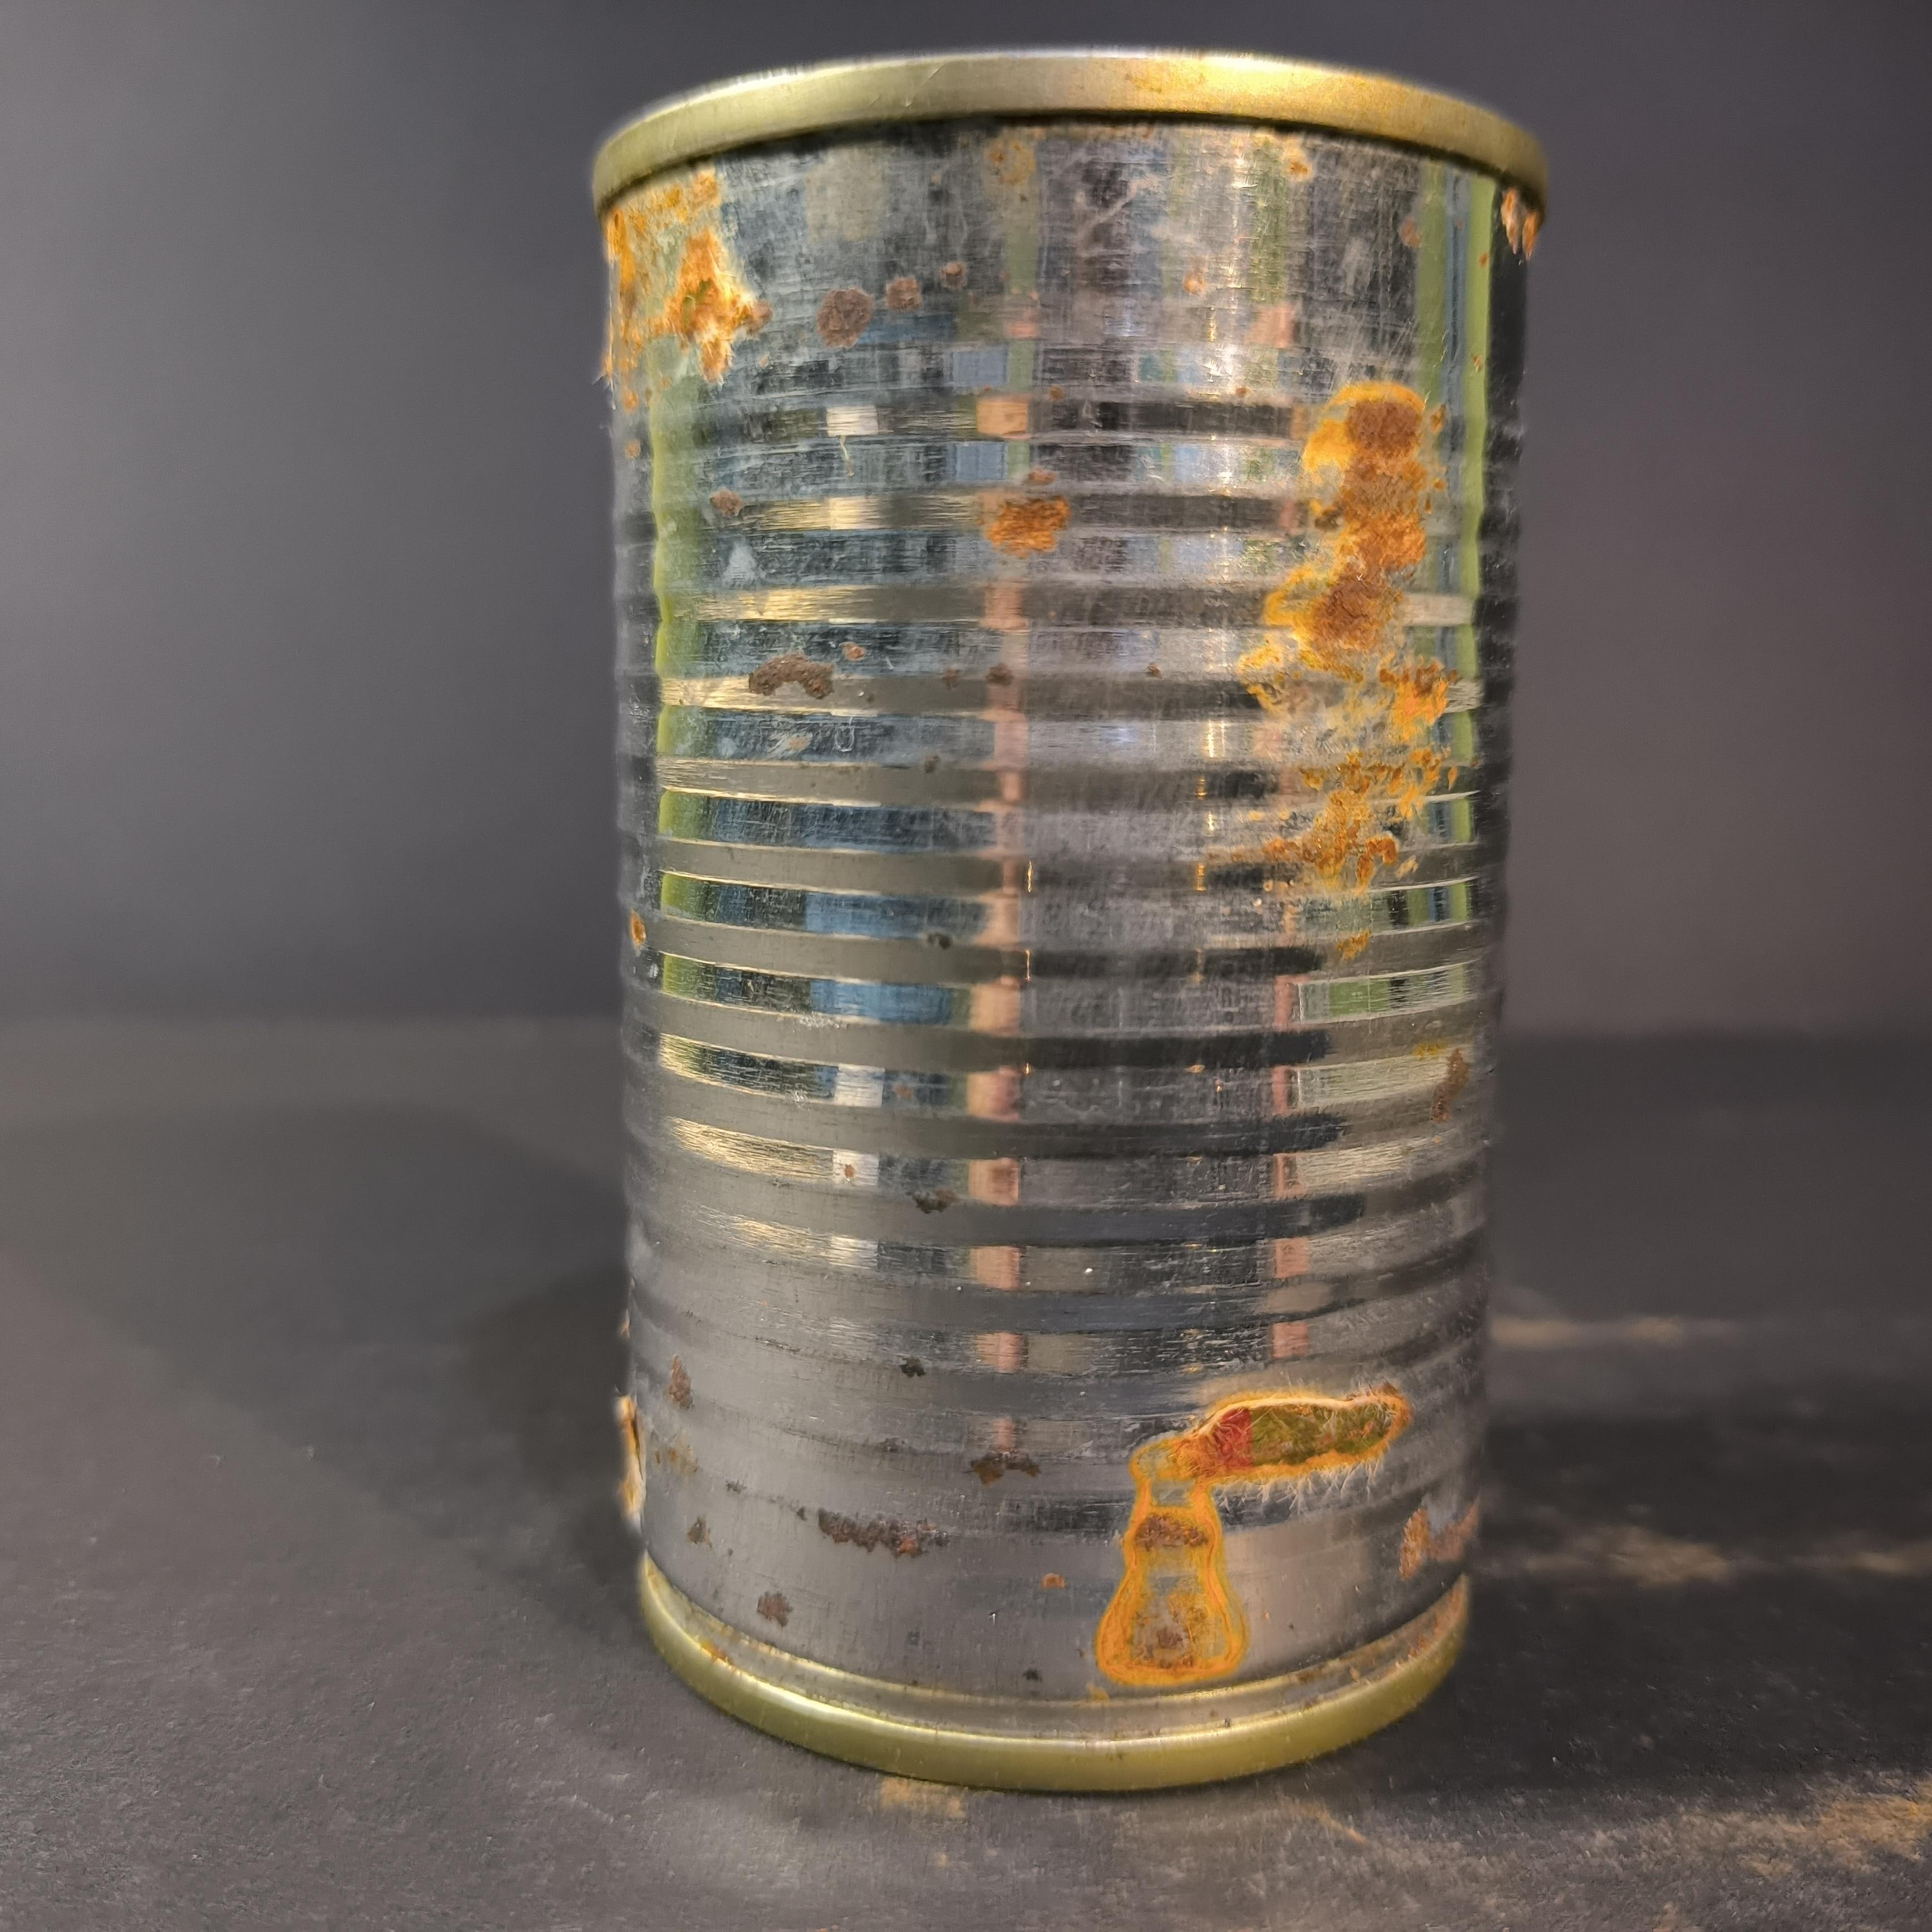Rusted: (554, 34, 1569, 1808)
